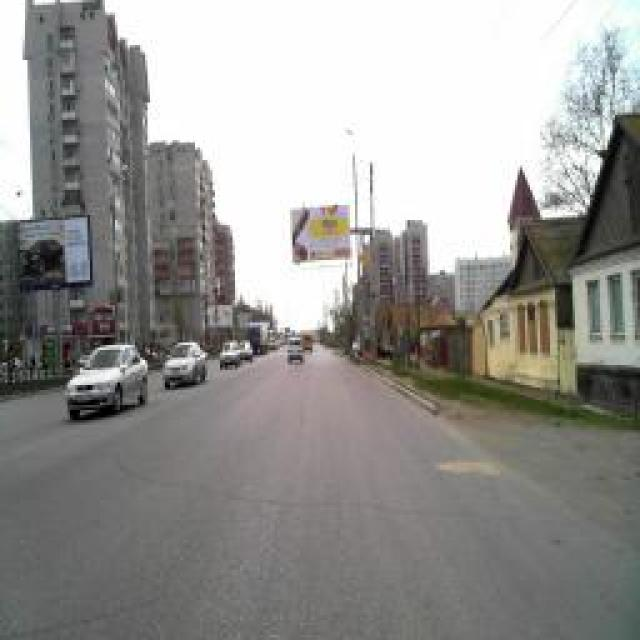sign: (358, 249, 370, 266)
